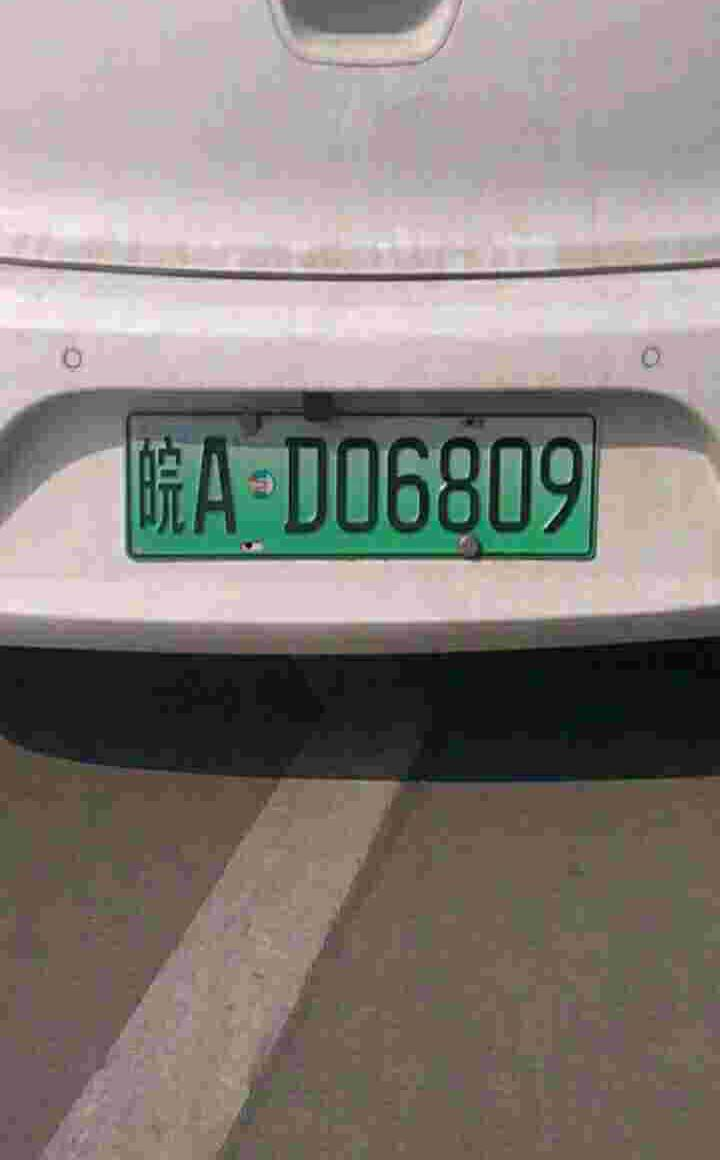car_id: (125, 411, 593, 554)
